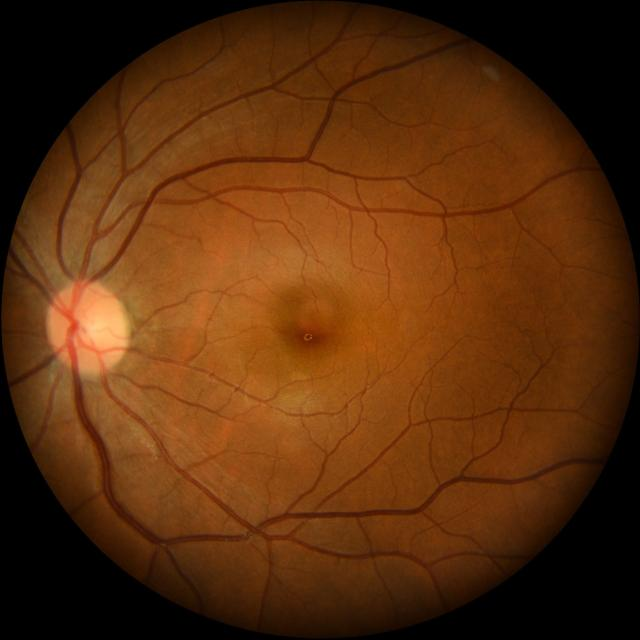OC: (71, 313, 102, 343)
OD: (47, 282, 128, 374)
